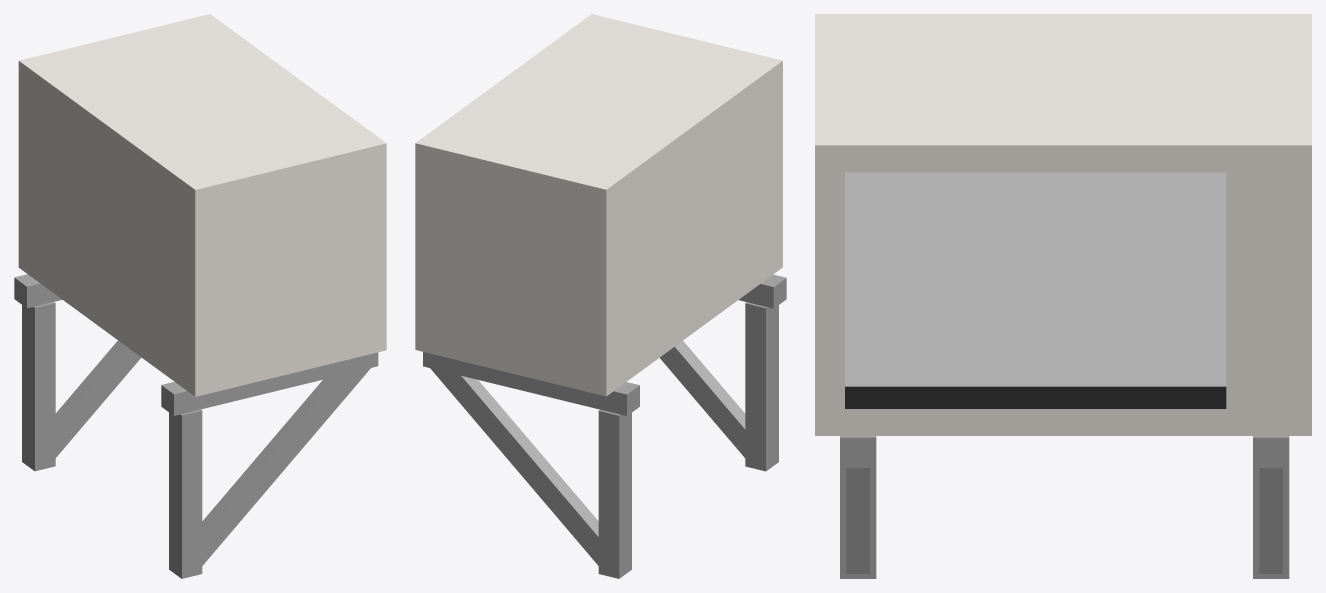
File: SM_airCondition_02.gltf
3 views of the same model, side by side, from view 1: azimuth 30°, elevation 25°; view 2: azimuth 150°, elevation 25°; view 3: azimuth 270°, elevation 25° (orthographic). The views are drawn at different scales.
Visible parts, largest first — view 1: SM_airCondition_02; view 2: SM_airCondition_02; view 3: SM_airCondition_02.
Part boxes in pixels (x1,y1,x2,y2): SM_airCondition_02: (14,14,386,578); SM_airCondition_02: (415,14,786,578); SM_airCondition_02: (815,14,1311,578).
Size of the model in its own units: 0.5054 by 0.9319 by 0.7571.
1 material, 1 textured.
